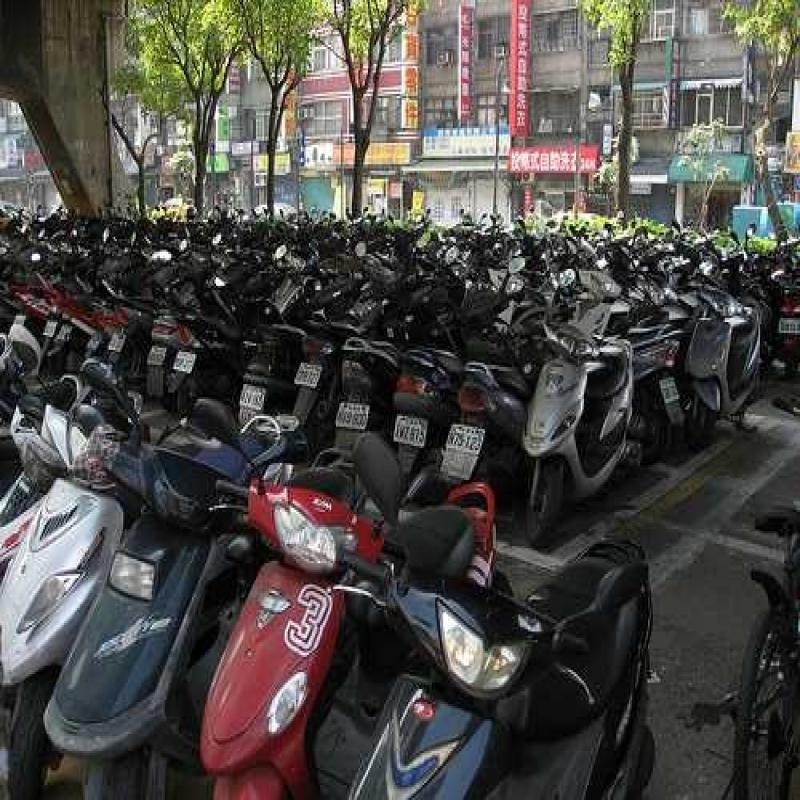bike: (375, 517, 644, 777), (81, 404, 228, 783), (242, 468, 373, 788), (20, 390, 127, 777), (536, 323, 645, 515)
